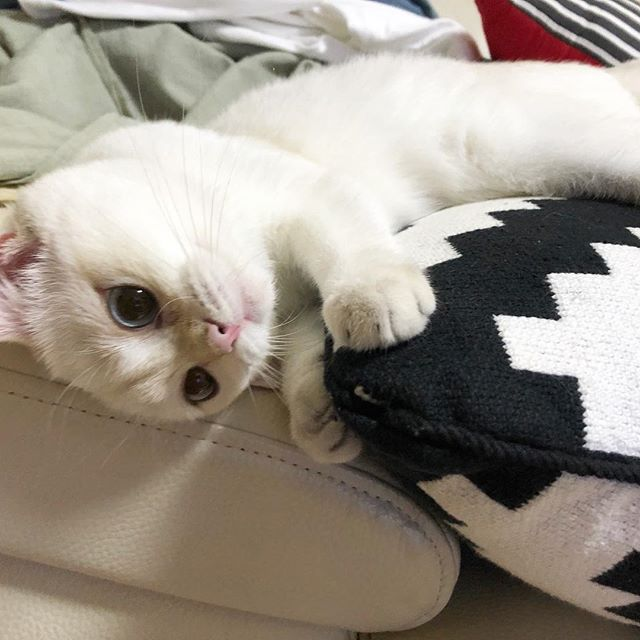cat: (2, 170, 277, 435)
